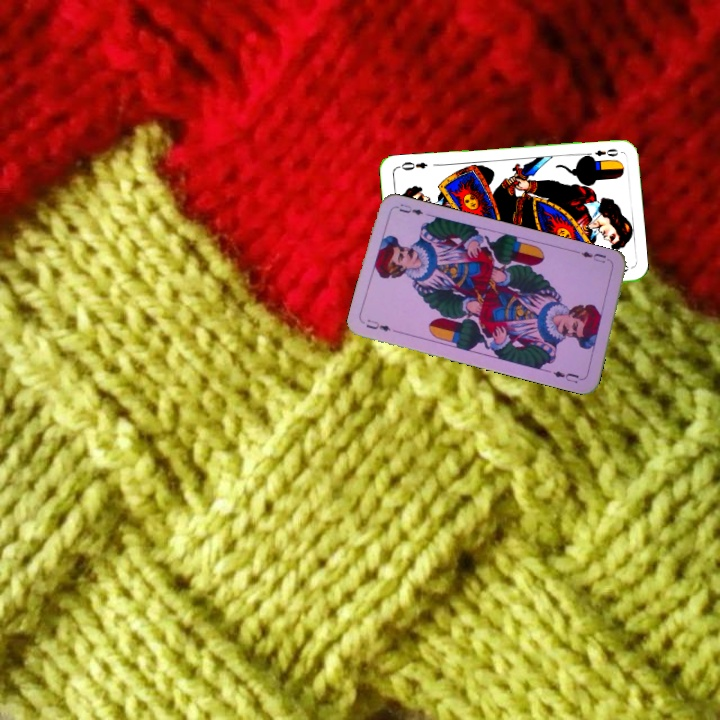EO: (582, 144, 621, 162)
EU: (574, 247, 614, 265), (362, 315, 393, 334)
